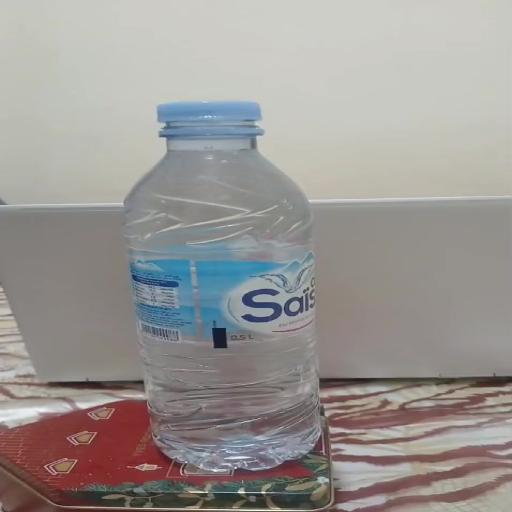bouteille non conformite: (118, 86, 282, 160)
